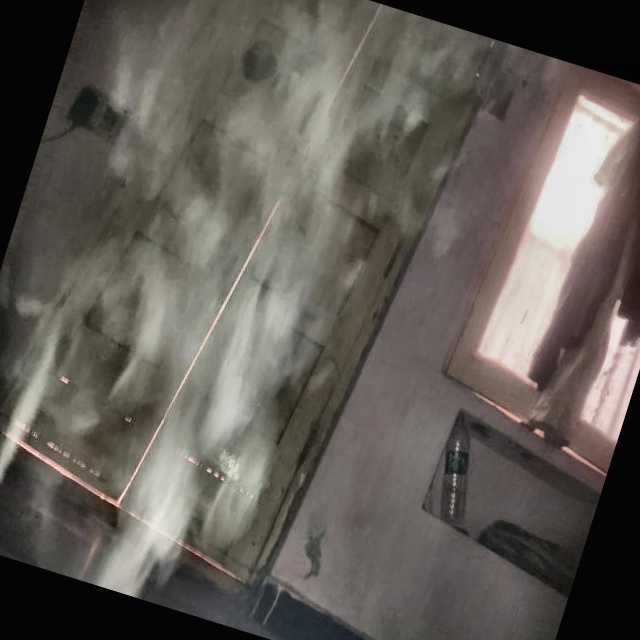smoke: (0, 85, 349, 585)
